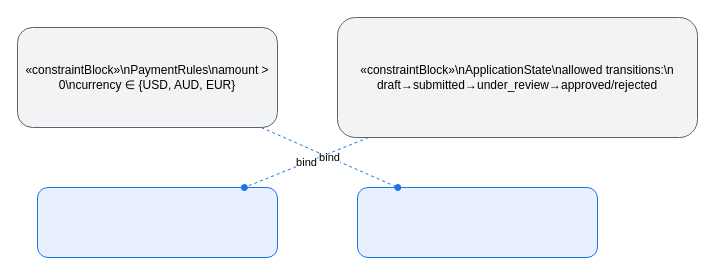
Image size: 715x275. Some labels were removed from this diagram. Each missing label, with the centre of its shape:
"«part» application:Application" belongs at (x=157, y=222).
"«part» payment:Payment" belongs at (x=477, y=222).
